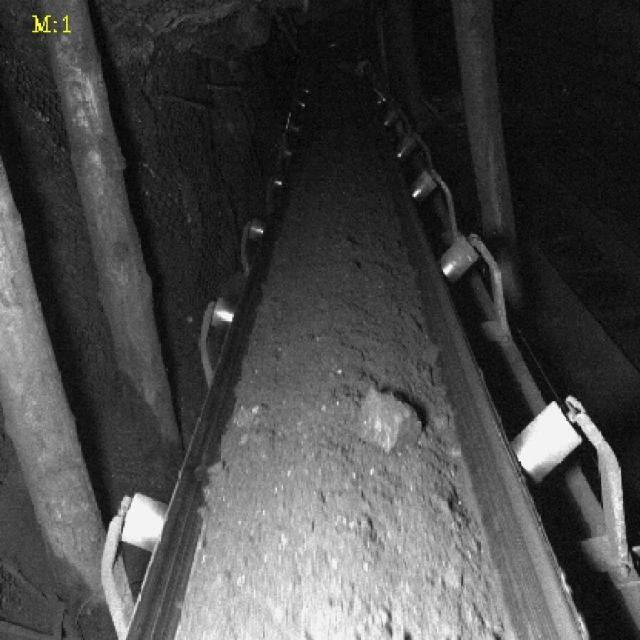large_sized_coal: (362, 385, 423, 449)
